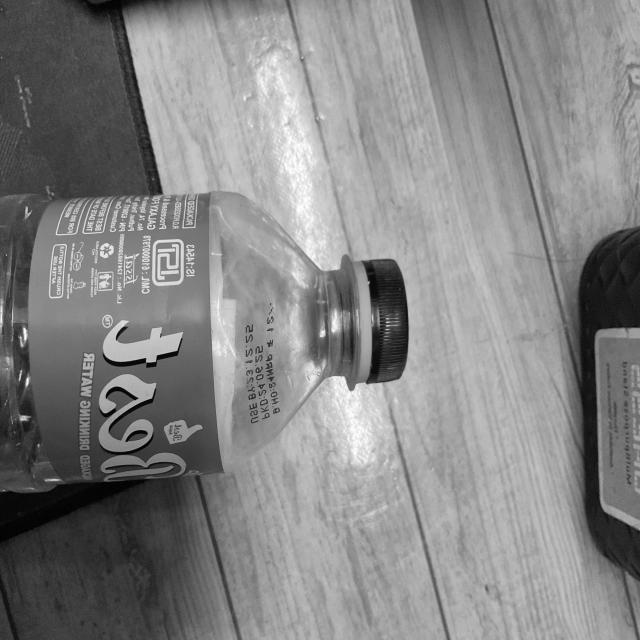Good-cap-Df0S: (346, 255, 411, 391)
